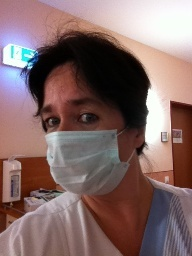correctlyWear: (39, 85, 145, 196)
